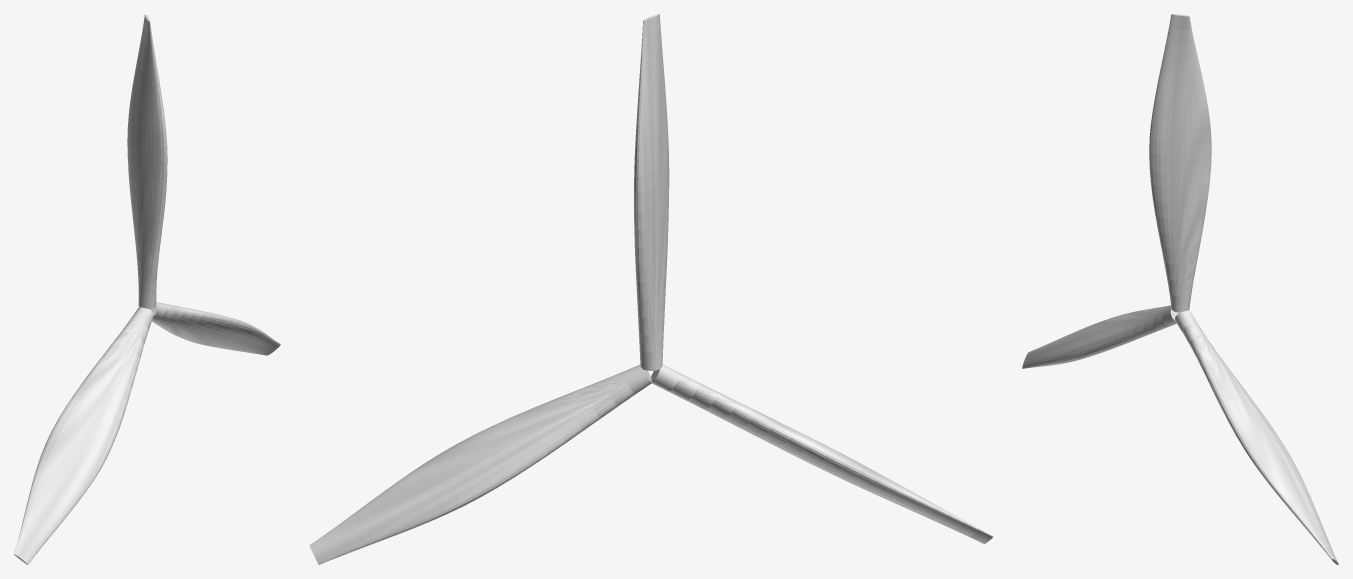
The model's file is elice2.obj.
The picture shows the model from 3 angles, left to right: view 1: azimuth 30°, elevation 25°; view 2: azimuth 150°, elevation 25°; view 3: azimuth 270°, elevation 25°; orthographic projection. The views are drawn at different scales.
Parts seen in each view (by area): view 1: Windrad.001; view 2: Windrad.001; view 3: Windrad.001.
Part boxes in pixels (box(x1,y1,x2,y2)): Windrad.001: box(14, 14, 280, 564); Windrad.001: box(309, 14, 993, 564); Windrad.001: box(1022, 14, 1338, 564).
Bounding box in the file's own units: 43.92 × 44.72 × 28.39.
Materials: 1 (1 with a texture image).
